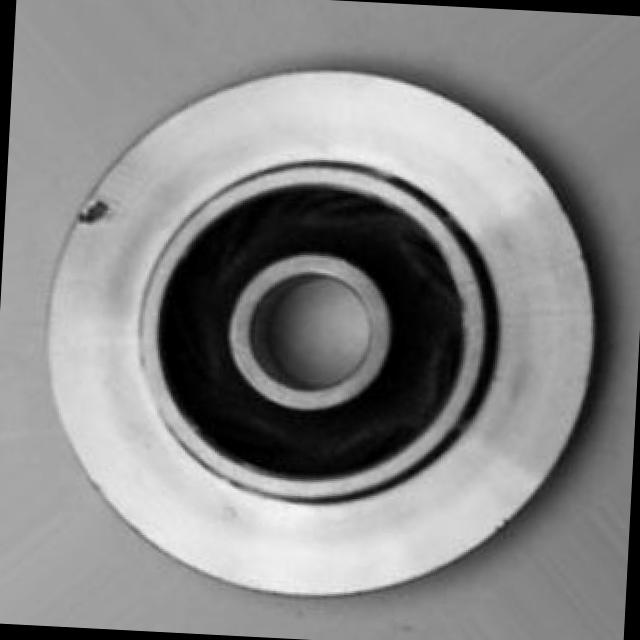Defect: (65, 194, 124, 236)
